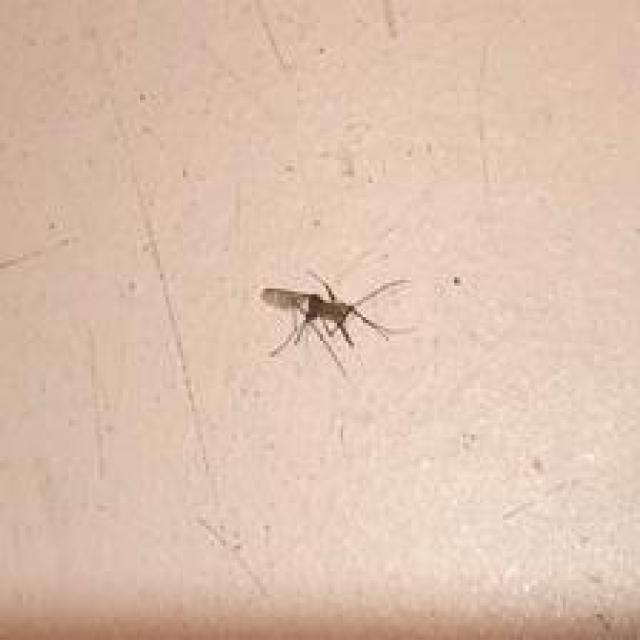Culex: (258, 269, 413, 377)
